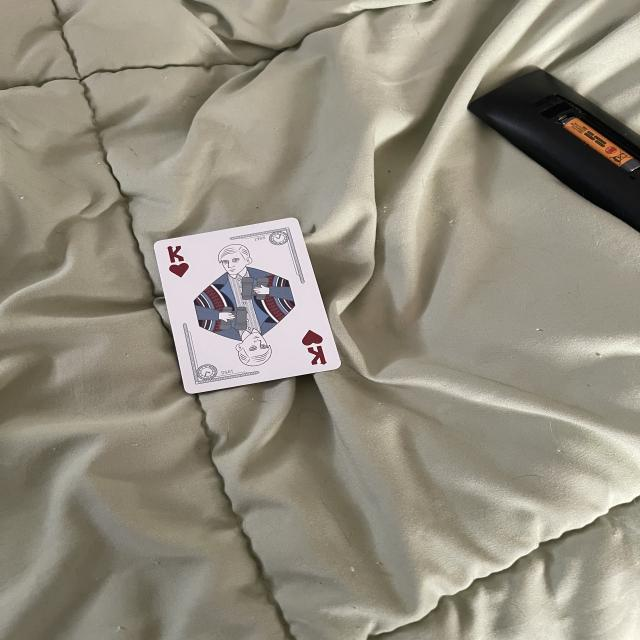King of hearts: (157, 215, 345, 397)
